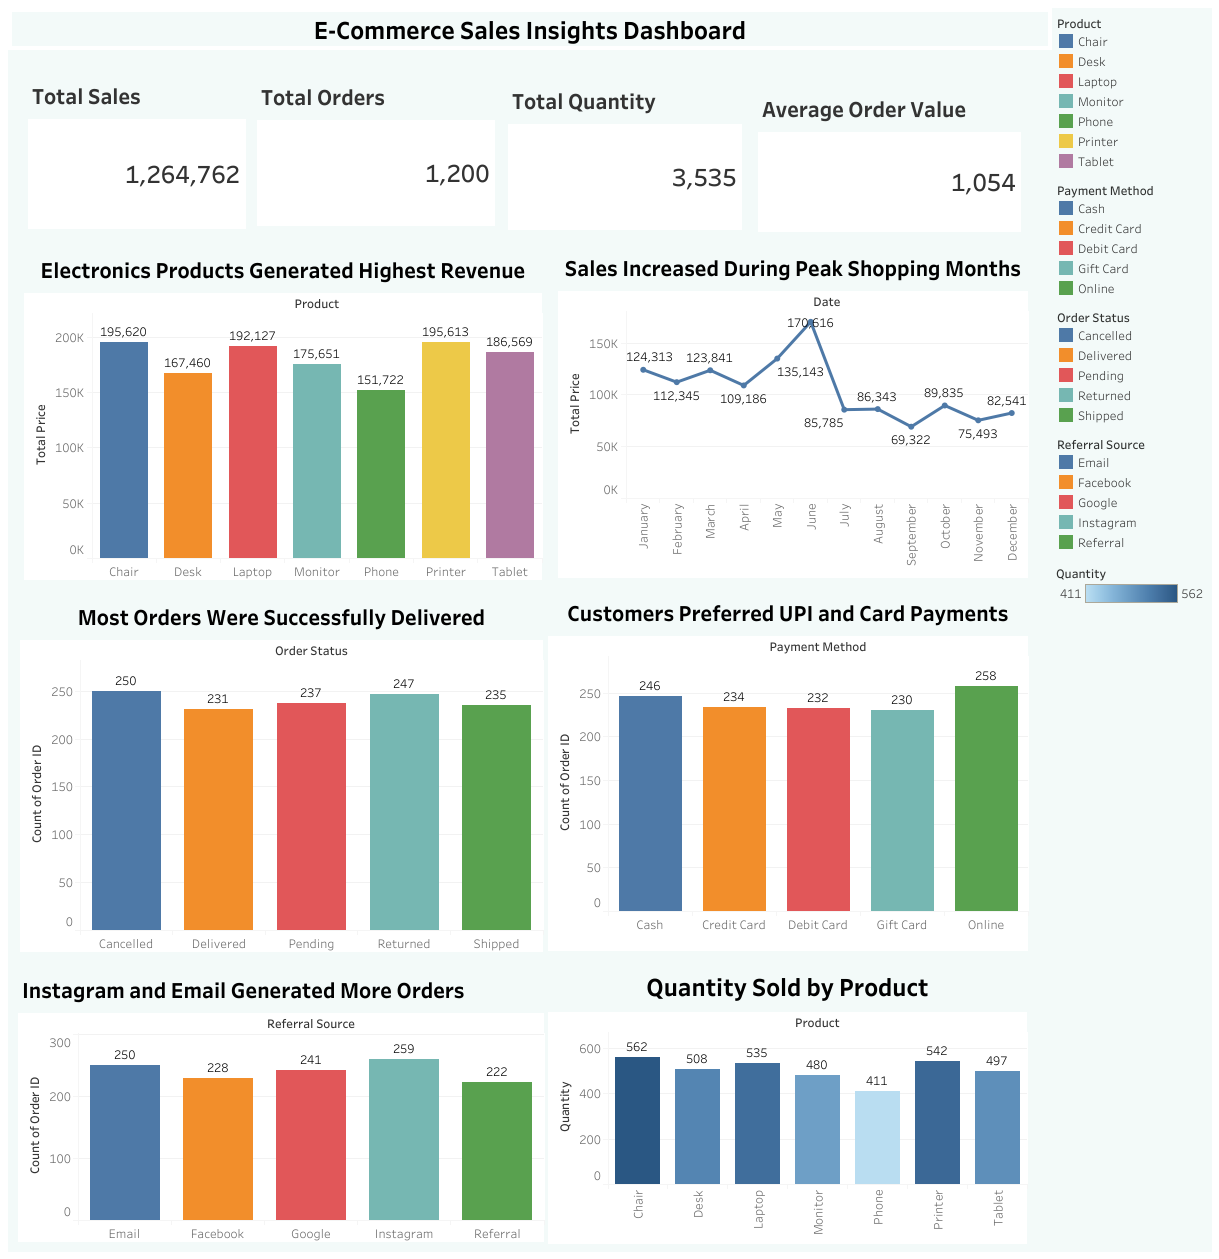

The dashboard page shown, as its layout file describes it:
{"tool":"tableau","page":{"name":"Dashboard 1","canvas":[1000,1000],"units":"permille","ordinal":0},"visuals":[{"type":"title","box":[7.1,6.4,843.4,32.5]},{"type":"legend","title":"Sheet 1","param":"[federated.1fzrdtm0jq2hqz1d23pvy1w4dxdq].[none:Product:nk]","box":[850.5,6.4,142.3,131.8]},{"type":"worksheet","title":"Sheet 7","mark":"Text","box":[22.8,59.5,178.2,121.4]},{"type":"worksheet","title":"Sheet 8","mark":"Automatic","box":[210.7,60.3,194,118.2]},{"type":"worksheet","title":"Total Quantity","mark":"Automatic","box":[416.2,63.5,191.4,118.2]},{"type":"worksheet","title":"Average Order Value","mark":"Automatic","box":[621.6,69.8,214.2,113.5]},{"type":"legend","title":"Sheet 3","param":"[federated.1fzrdtm0jq2hqz1d23pvy1w4dxdq].[none:PaymentMethod:nk]","box":[850.5,138.1,142.3,100]},{"type":"worksheet","title":"Sales Increased During Peak Shopping Months","mark":"Automatic","rows":["TotalPrice"],"cols":["Date"],"box":[457.4,196,385.4,262.7]},{"type":"worksheet","title":"Sheet 1","mark":"Automatic","rows":["TotalPrice"],"cols":["Product"],"box":[19.3,197.6,424.9,262.7]},{"type":"legend","title":"Sheet 4","param":"[federated.1fzrdtm0jq2hqz1d23pvy1w4dxdq].[none:OrderStatus:nk]","box":[850.5,238.1,142.3,100]},{"type":"legend","title":"Sheet 5","param":"[federated.1fzrdtm0jq2hqz1d23pvy1w4dxdq].[none:ReferralSource:nk]","box":[850.5,338.1,142.3,100]},{"type":"legend","title":"Sheet 6","param":"[federated.1fzrdtm0jq2hqz1d23pvy1w4dxdq].[sum:Quantity:qk]","box":[850.5,438.1,142.3,51.6]},{"type":"worksheet","title":"Sheet 3","mark":"Automatic","rows":["OrderID"],"cols":["PaymentMethod"],"box":[449.5,469.8,393.3,284.9]},{"type":"worksheet","title":"Sheet 4","mark":"Automatic","rows":["OrderID"],"cols":["OrderStatus"],"box":[16.7,473,428.4,282.5]},{"type":"worksheet","title":"Sheet 6","mark":"Automatic","rows":["Quantity"],"cols":["Product"],"box":[449.5,764.3,392.4,223]},{"type":"worksheet","title":"Sheet 5","mark":"Automatic","rows":["OrderID"],"cols":["ReferralSource"],"box":[14.9,769.1,431.1,216.7]}]}

Visuals, with their boxes on the dashboard's canvas, which has no fixed pixel size, in thousandths of its width and height (x1, y1, x2, y2). These are canvas units, not pixel positions in the 1219x1259 screenshot, which may show the page scaled, cropped or inside an application window:
title: BBox(7, 6, 850, 39)
"Sheet 1" legend: BBox(850, 6, 993, 138)
"Sheet 7" worksheet (Text marks): BBox(23, 60, 201, 181)
"Sheet 8" worksheet: BBox(211, 60, 405, 178)
"Total Quantity" worksheet: BBox(416, 64, 608, 182)
"Average Order Value" worksheet: BBox(622, 70, 836, 183)
"Sheet 3" legend: BBox(850, 138, 993, 238)
"Sales Increased During Peak Shopping Months" worksheet: BBox(457, 196, 843, 459)
"Sheet 1" worksheet: BBox(19, 198, 444, 460)
"Sheet 4" legend: BBox(850, 238, 993, 338)
"Sheet 5" legend: BBox(850, 338, 993, 438)
"Sheet 6" legend: BBox(850, 438, 993, 490)
"Sheet 3" worksheet: BBox(450, 470, 843, 755)
"Sheet 4" worksheet: BBox(17, 473, 445, 756)
"Sheet 6" worksheet: BBox(450, 764, 842, 987)
"Sheet 5" worksheet: BBox(15, 769, 446, 986)
